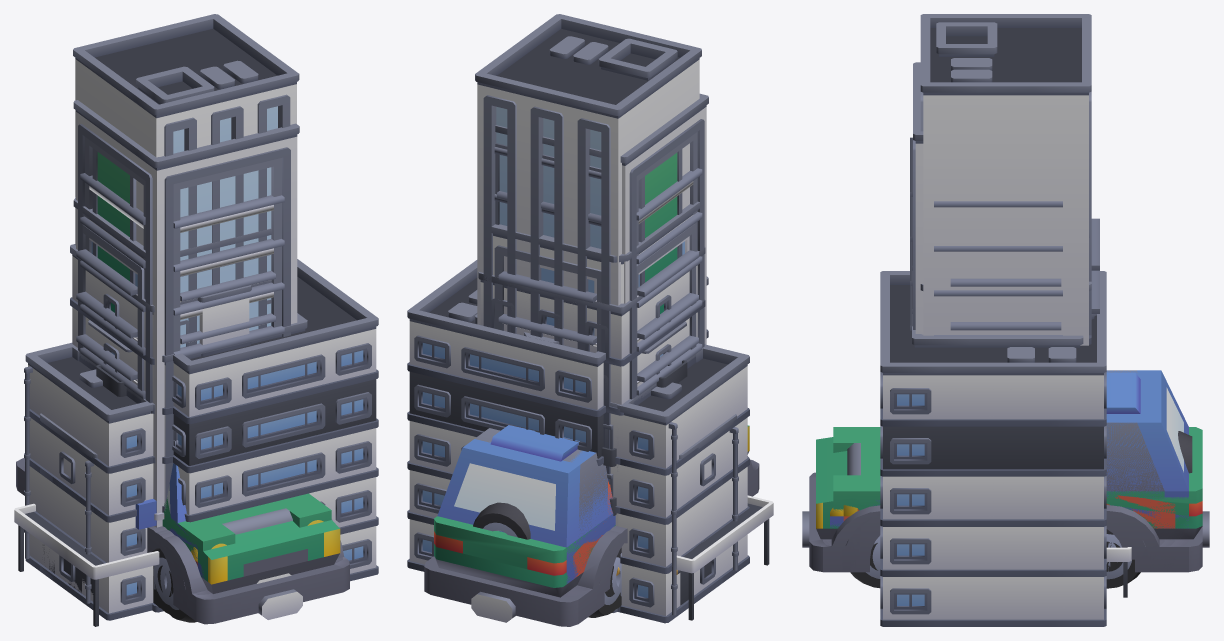
File: props.glb
The picture shows the model from 3 angles, left to right: view 1: azimuth 30°, elevation 25°; view 2: azimuth 150°, elevation 25°; view 3: azimuth 270°, elevation 25°; orthographic projection. The views are drawn at different scales.
Visible parts, largest first — view 1: P028, P030, P031, P024, P013, P029, P025, P012, P027, P014, P026, P011; view 2: P031, P028, P024, P014, P030, P013, P029, P027, P025, P012, P011, P026; view 3: P028, P031, P013, P014, P012, P030, P011, P029, P026.
Boxes of the visible parts, x1,y1,x2,y2 form: P028: (14, 259, 378, 626); P030: (73, 66, 299, 612); P031: (73, 14, 299, 352); P024: (24, 342, 154, 620); P013: (16, 458, 349, 624); P029: (73, 197, 275, 390); P025: (40, 413, 97, 609); P012: (153, 493, 340, 613); P027: (70, 244, 271, 603); P014: (23, 463, 342, 614); P026: (96, 313, 307, 512); P011: (147, 516, 197, 611); P031: (475, 14, 701, 526); P028: (407, 260, 773, 620); P024: (601, 344, 749, 623); P014: (431, 425, 749, 618); P030: (495, 38, 708, 399); P013: (424, 425, 759, 626); P029: (491, 201, 699, 395); P027: (478, 247, 705, 612); P025: (676, 414, 738, 606); P012: (473, 428, 748, 605); P011: (573, 481, 626, 609); P026: (474, 314, 687, 387); P028: (880, 271, 1131, 626); P031: (920, 14, 1091, 345); P013: (802, 427, 1209, 588); P014: (823, 370, 1188, 578); P012: (826, 370, 1192, 571); P030: (910, 22, 1062, 336); P011: (843, 495, 1175, 585); P029: (912, 218, 1099, 330); P026: (912, 314, 1096, 347).
Size of the model in its own units: 2.32 by 4.08 by 2.95.
52 materials, 27 textured.
